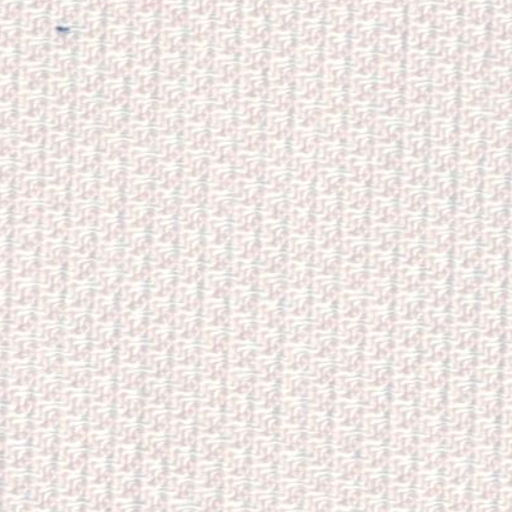WuZi: (48, 15, 80, 46)
